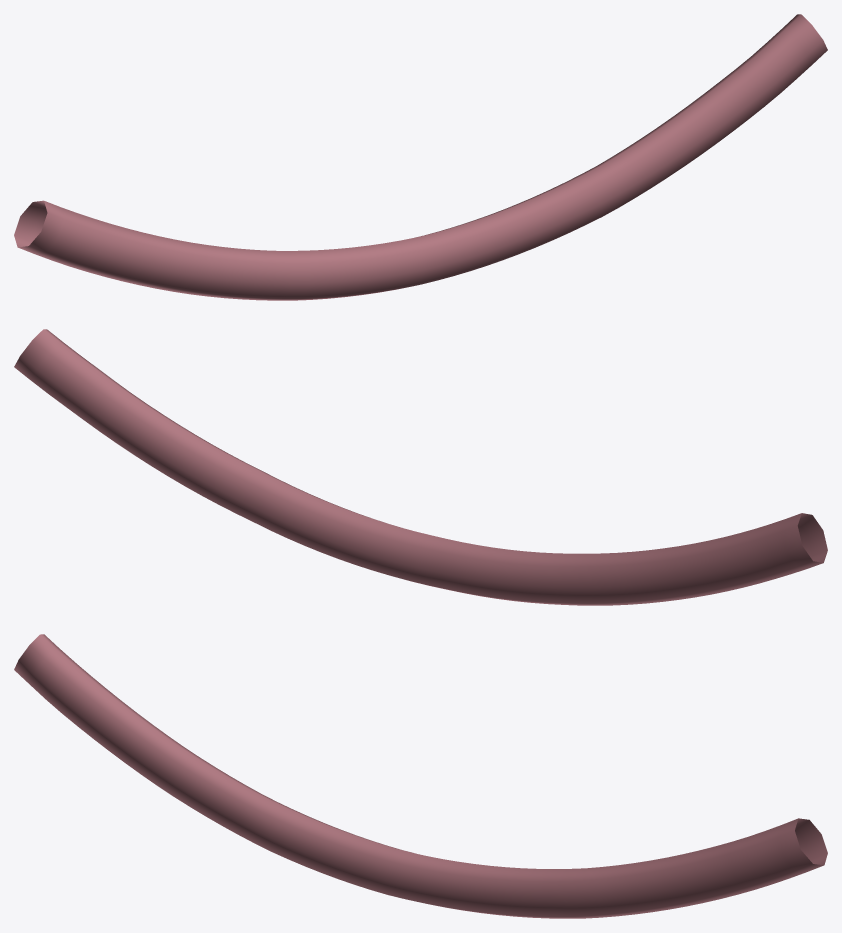
3 views of the same model, one above another, from view 1: azimuth 30°, elevation 25°; view 2: azimuth 150°, elevation 25°; view 3: azimuth 330°, elevation 25° (orthographic).
Visible parts, largest first — view 1: Mouth_Lip; view 2: Mouth_Lip; view 3: Mouth_Lip.
Boxes of the visible parts, x1,y1,x2,y2 form: Mouth_Lip: [14, 14, 827, 300]; Mouth_Lip: [14, 329, 827, 605]; Mouth_Lip: [14, 634, 827, 918].
Size of the model in its own units: 0.0886 by 0.0178 by 0.0057.
